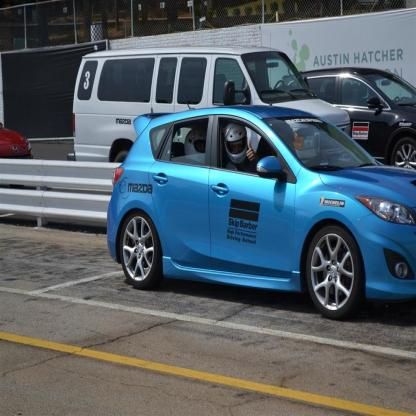Car: (108, 33, 416, 321), (277, 68, 416, 171), (1, 124, 33, 189)
